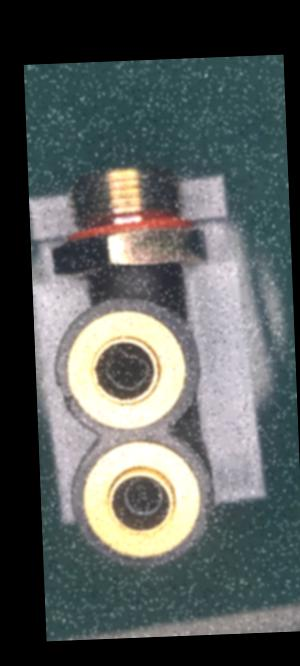bump: (56, 375, 77, 413), (202, 481, 220, 523)
off-centered: (98, 344, 157, 400)
white mark: (134, 275, 149, 291)
